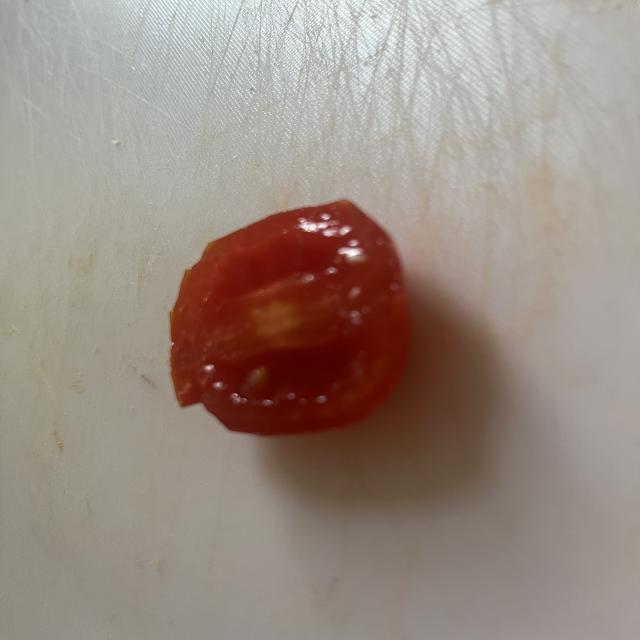sliced_tomato: (171, 201, 408, 435)
